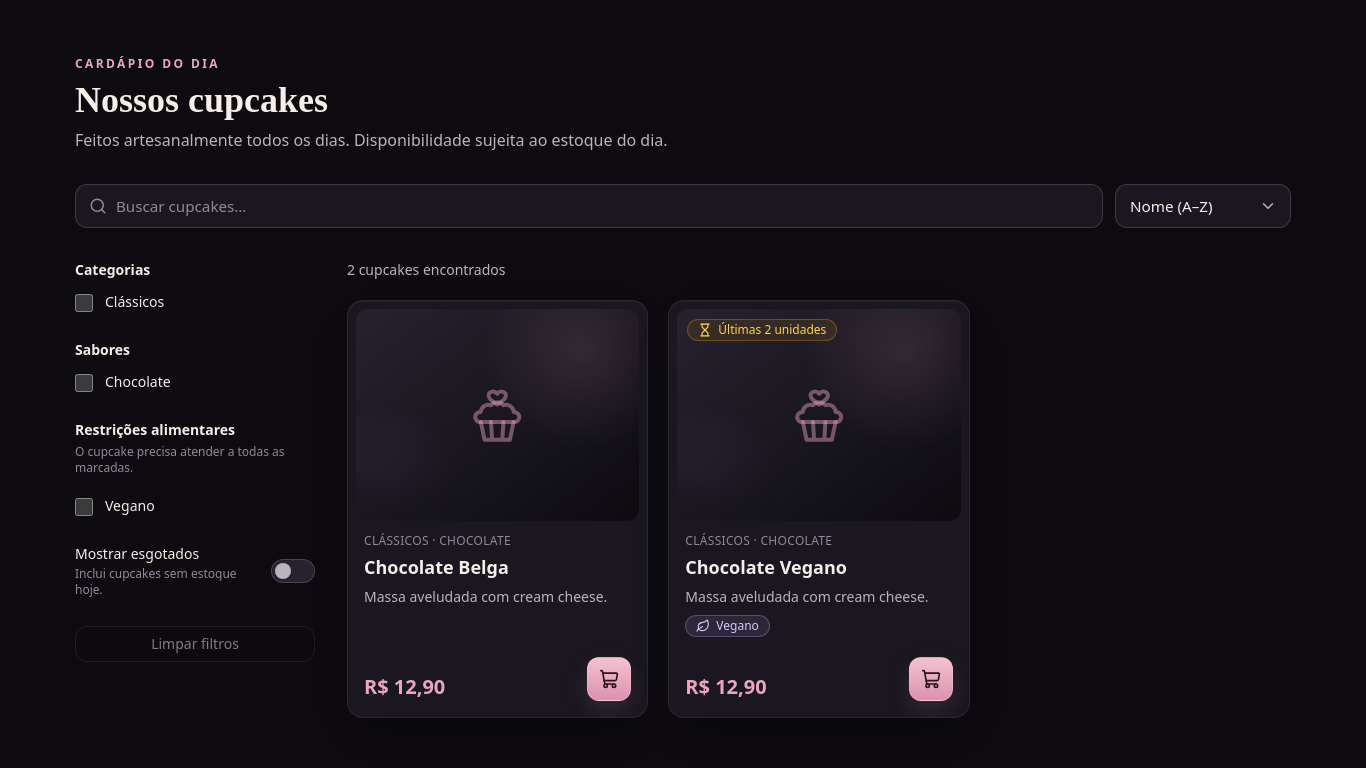
Scenario: CatalogPage (integração com a camada HTTP) › adiciona ao carrinho após validar com o servidor
Click the button named "Adicionar Chocolate Belga ao carrinho" at (609, 679), box [587, 657, 631, 701]
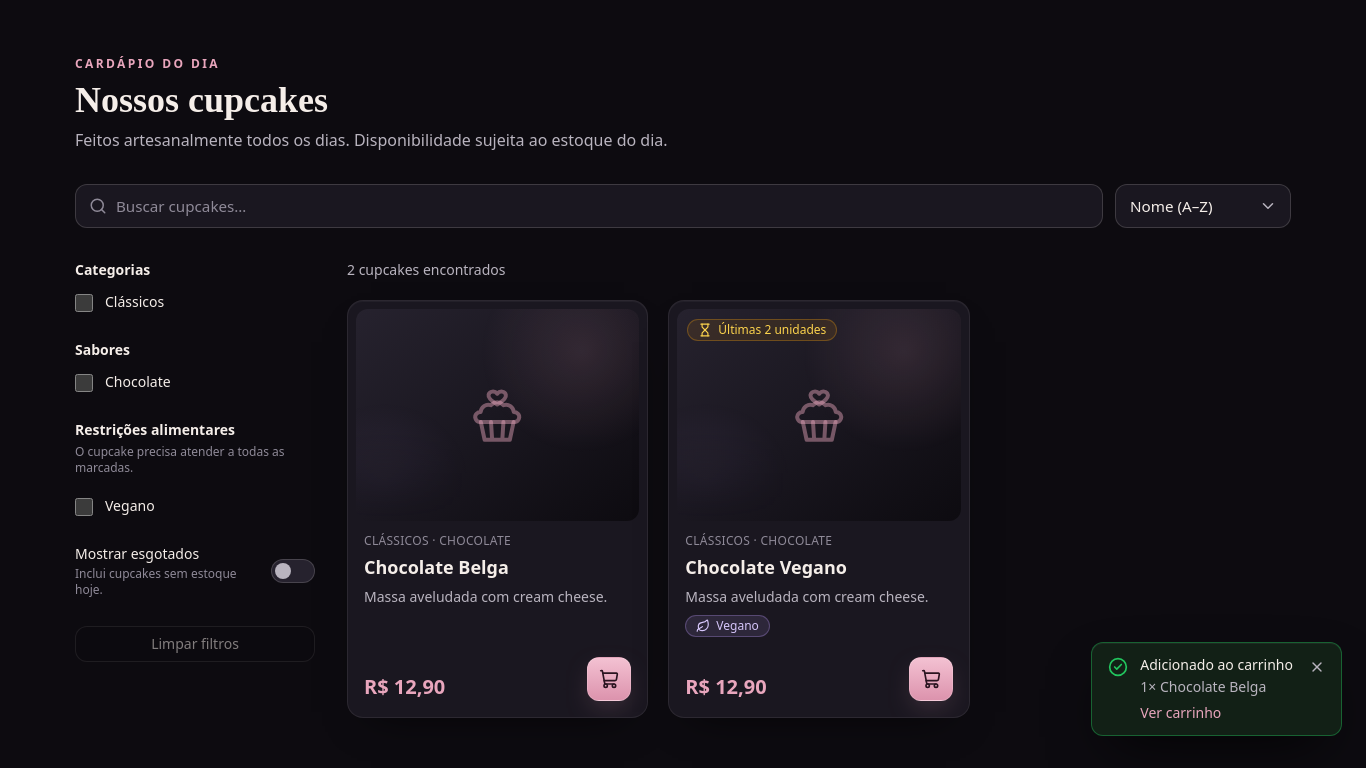
expect the text "Adicionado ao carrinho" is shown: met, box [1140, 655, 1293, 675]
